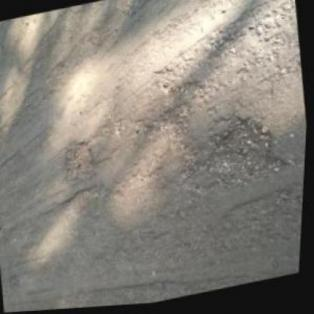Hueco: (204, 110, 292, 198), (60, 138, 100, 184), (9, 272, 24, 293)
